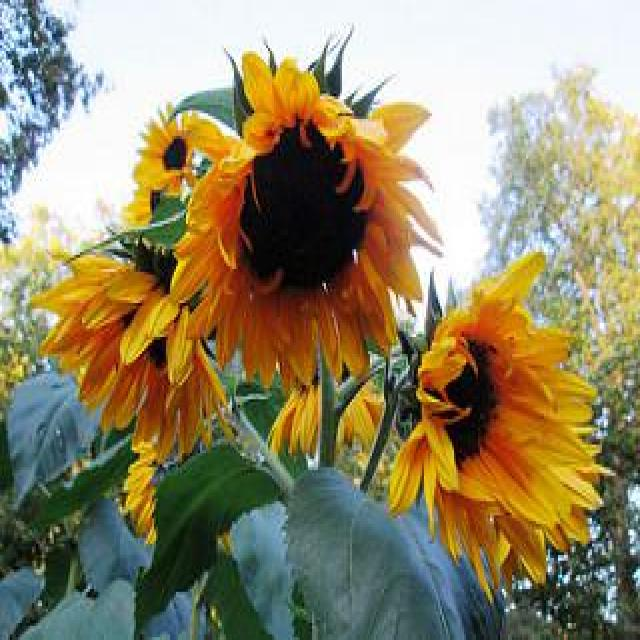sunflower: (172, 51, 441, 385), (391, 253, 615, 602), (31, 246, 235, 464), (267, 372, 386, 462), (135, 101, 197, 191), (120, 441, 164, 543), (125, 186, 161, 222)
